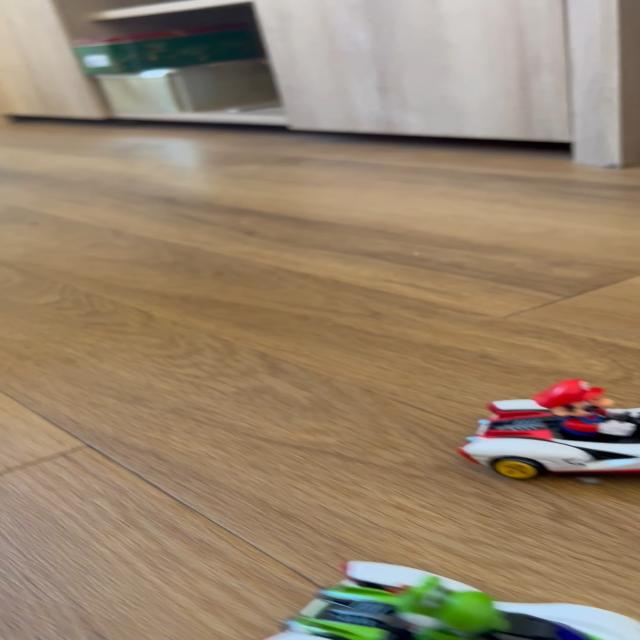mario: (453, 375, 640, 485)
yoshi: (244, 552, 638, 639)
